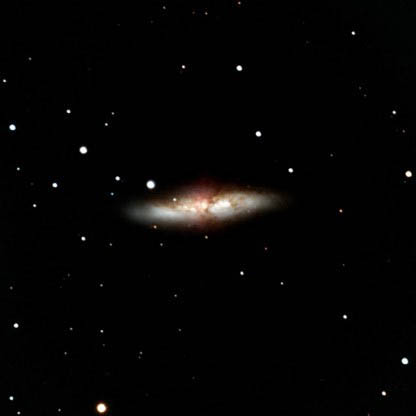Messier 82: (110, 156, 296, 246)
